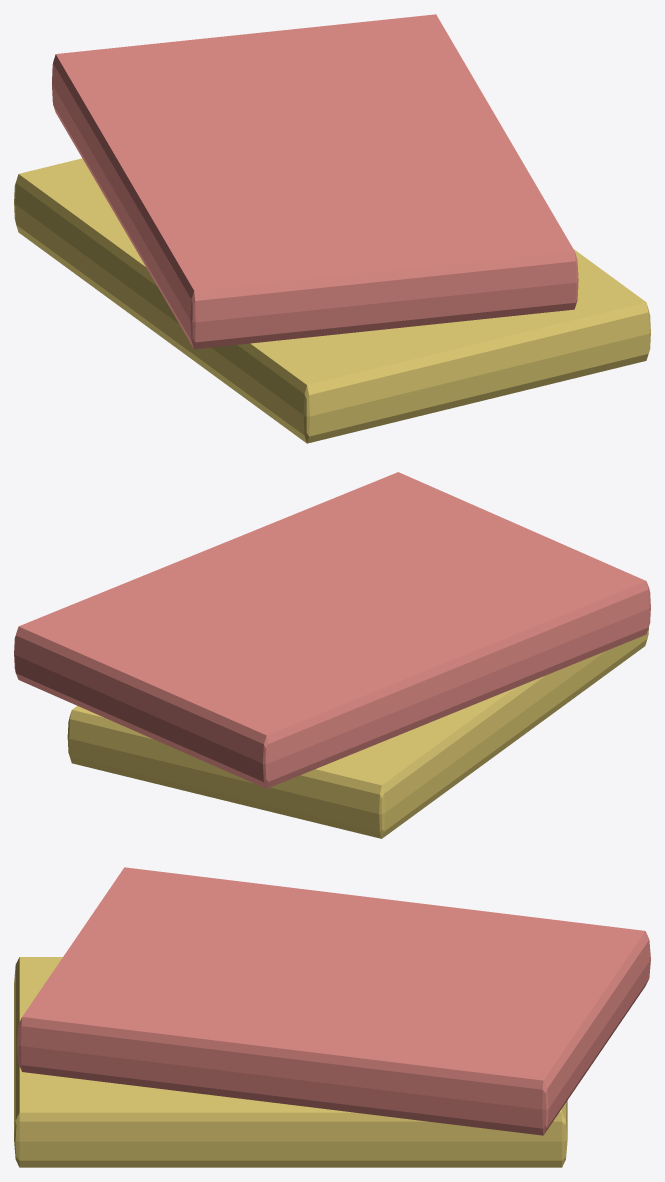
Rendered from book.glb.
3 renders of one model, top to bottom at view 1: azimuth 30°, elevation 25°; view 2: azimuth 150°, elevation 25°; view 3: azimuth 270°, elevation 25°, orthographic. The views are drawn at different scales.
Visible parts, largest first — view 1: ShelfBook2, ShelfBook1; view 2: ShelfBook2, ShelfBook1; view 3: ShelfBook2, ShelfBook1.
Part boxes in pixels (left/top/right/bottom): ShelfBook2: left=52, top=14, right=578, bottom=349; ShelfBook1: left=14, top=158, right=650, bottom=443; ShelfBook2: left=14, top=472, right=650, bottom=788; ShelfBook1: left=67, top=627, right=648, bottom=838; ShelfBook2: left=17, top=867, right=650, bottom=1135; ShelfBook1: left=14, top=957, right=567, bottom=1167.
Bounding box in the file's own units: 0.1905 × 0.0486 × 0.2371.
